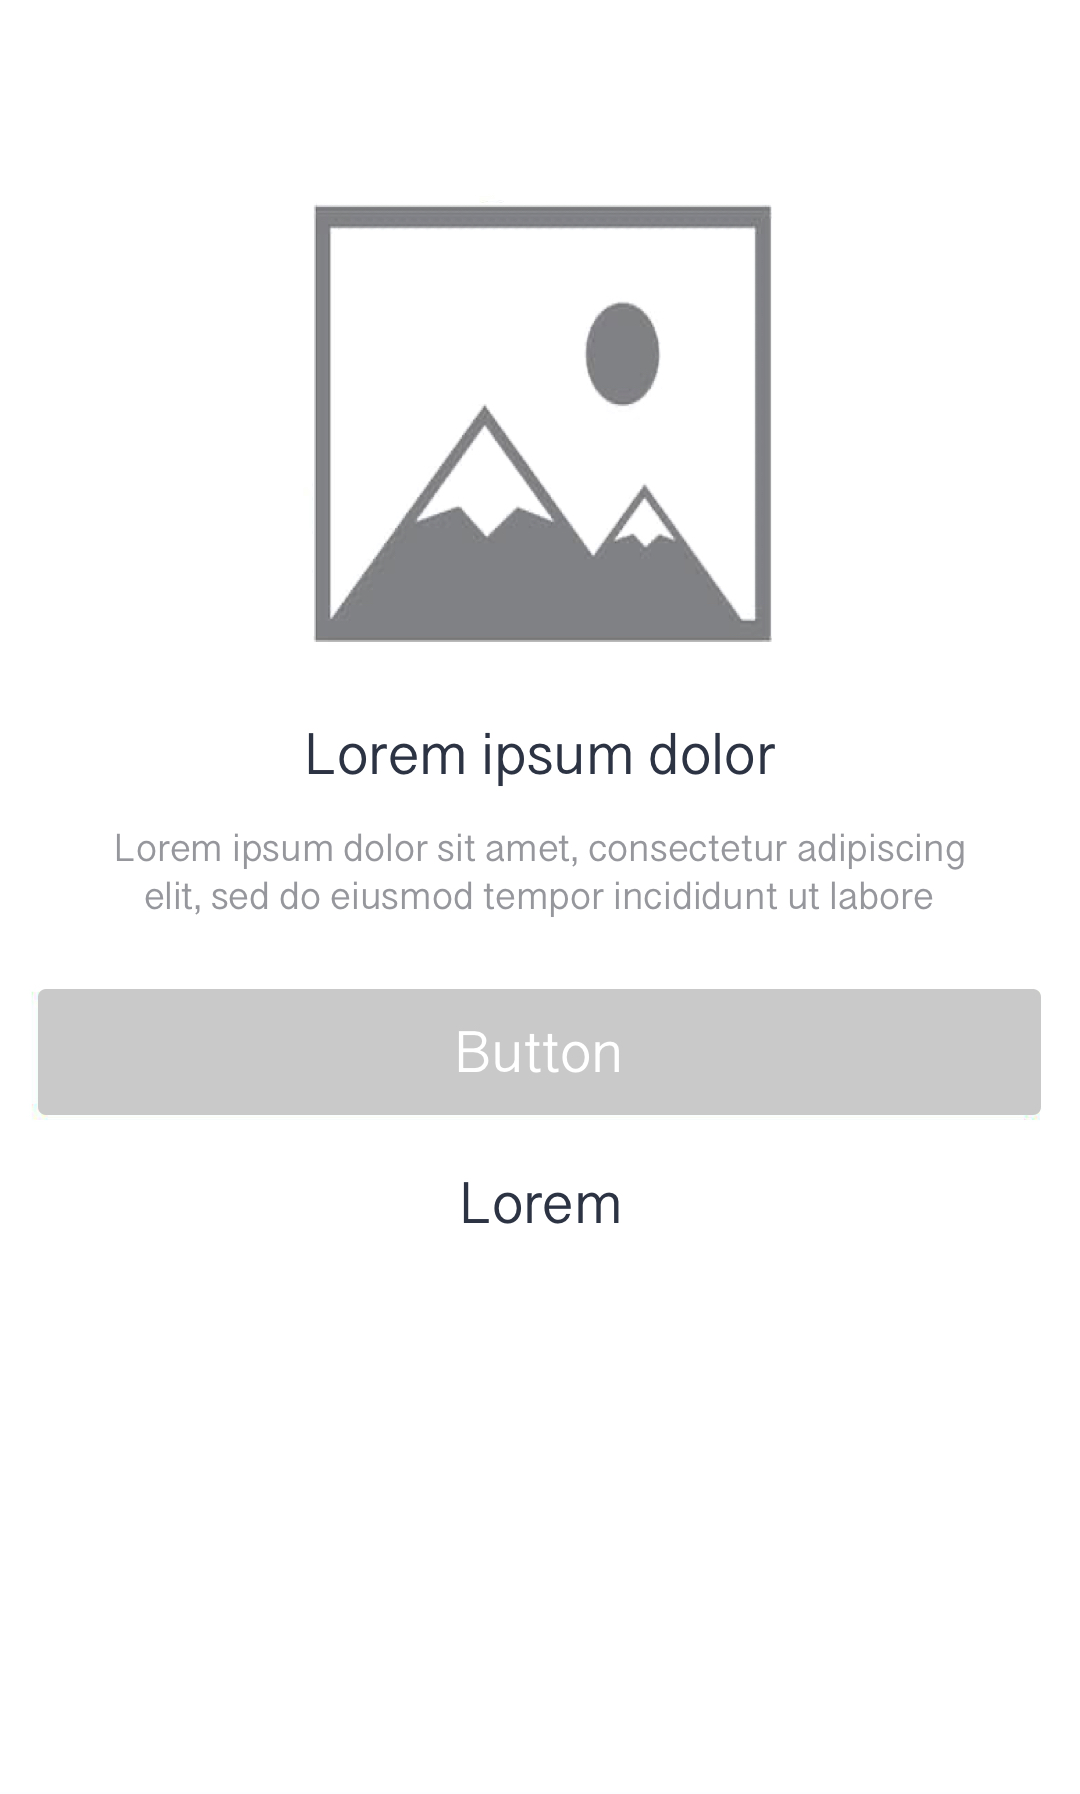Image: (313, 205, 773, 645)
Text: (117, 833, 965, 918), (309, 732, 776, 788), (462, 1181, 621, 1225)
TextButton: (38, 988, 1042, 1116)
